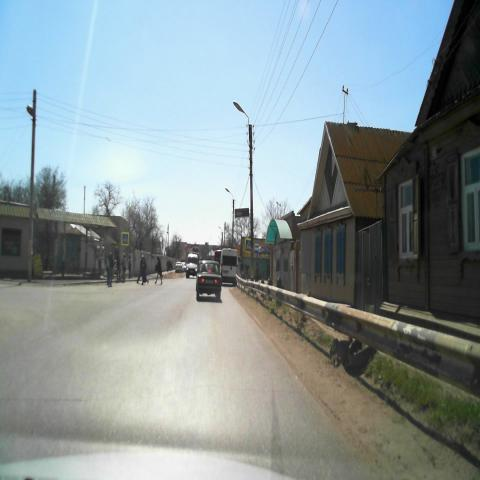5_16: (254, 242, 259, 253)
5_19_1: (245, 238, 252, 250), (122, 233, 128, 245)
